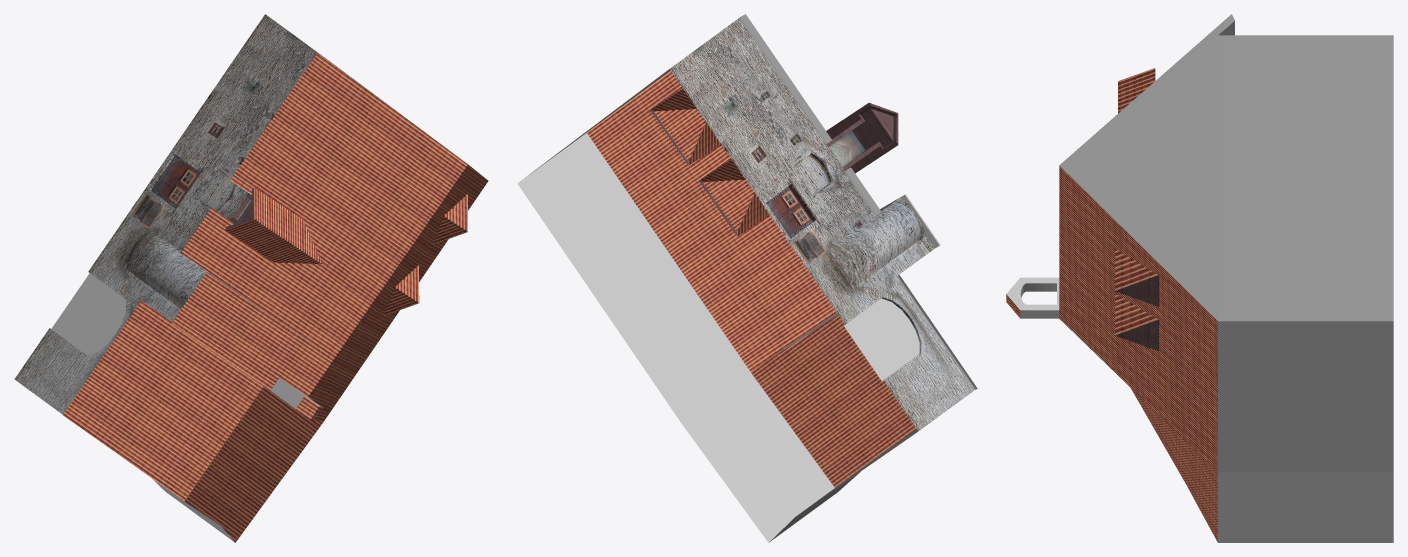
File: Laboratooriumi_22.obj
The picture shows the model from 3 angles, left to right: view 1: azimuth 30°, elevation 25°; view 2: azimuth 150°, elevation 25°; view 3: azimuth 270°, elevation 25°; orthographic projection. The views are drawn at different scales.
Visible parts, largest first — view 1: Laboratooriumi_22; view 2: Laboratooriumi_22; view 3: Laboratooriumi_22.
Boxes of the visible parts, box(x1,y1,x2,y2) form: Laboratooriumi_22: box(14, 14, 488, 542); Laboratooriumi_22: box(517, 14, 977, 542); Laboratooriumi_22: box(1006, 14, 1393, 542).
Size of the model in its own units: 18.89 by 20.45 by 12.32.
